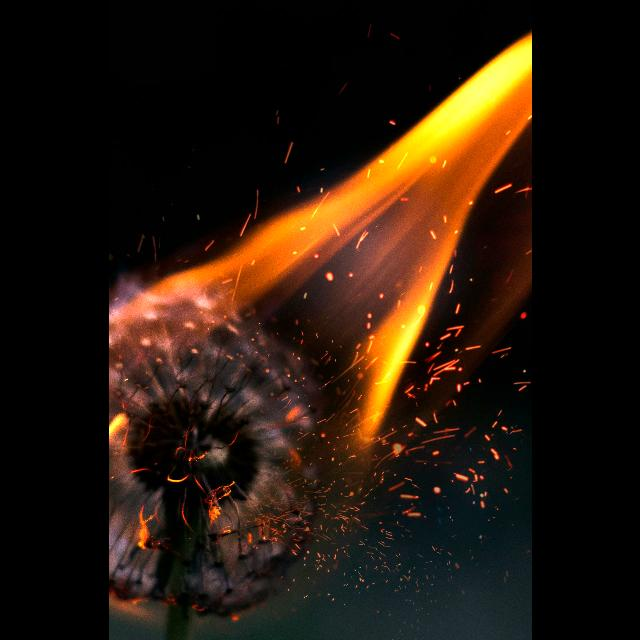fire: (108, 35, 532, 640)
